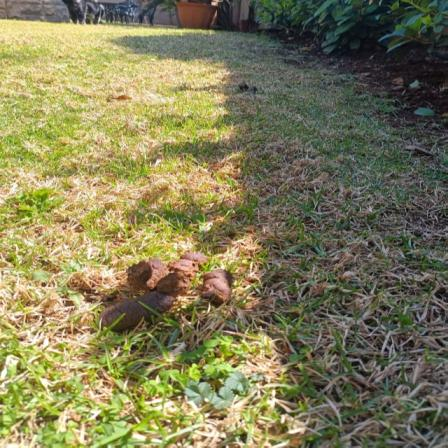dog-poop: (103, 244, 227, 312), (238, 79, 262, 93)
